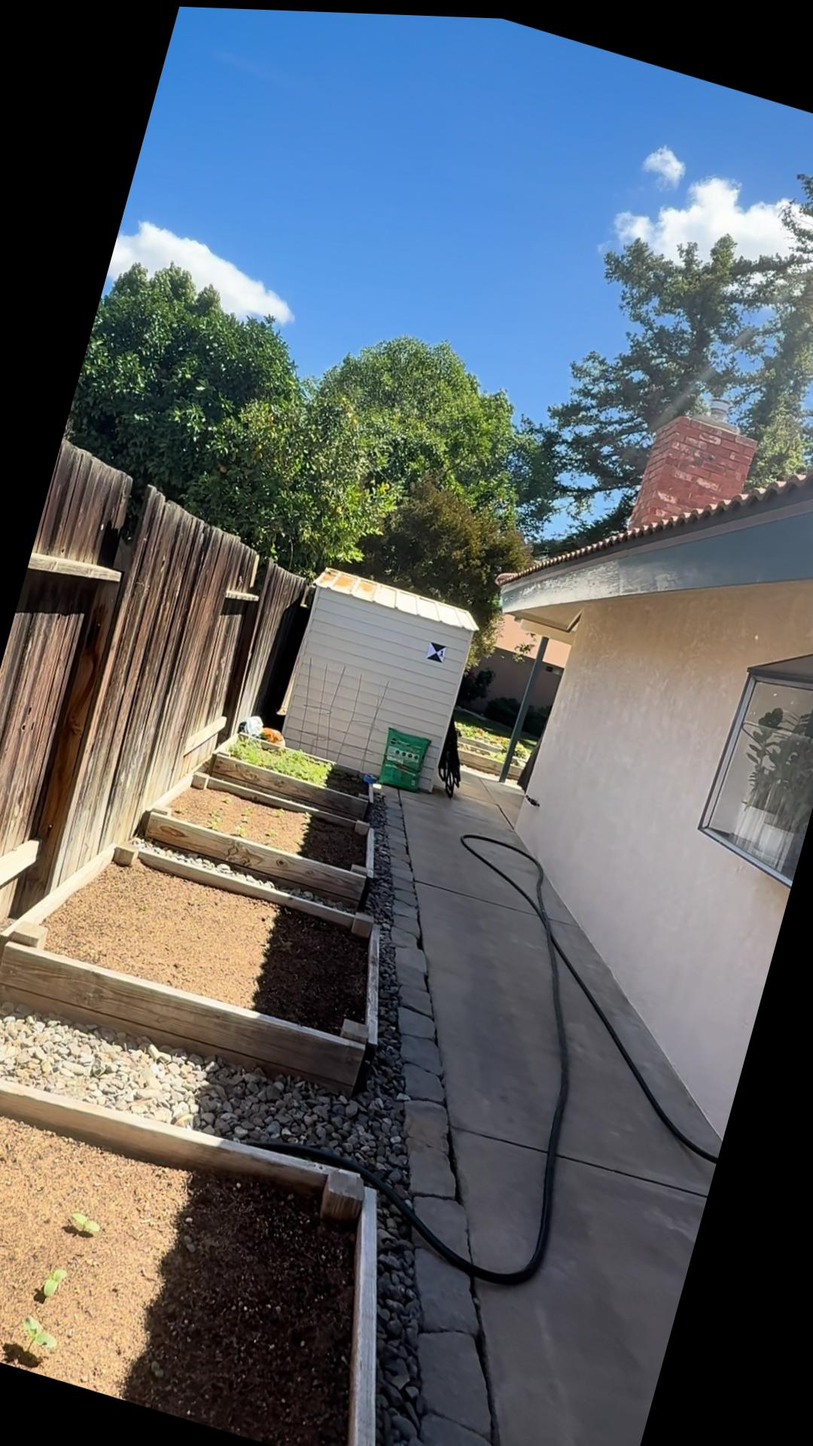target1: (423, 641, 451, 667)
